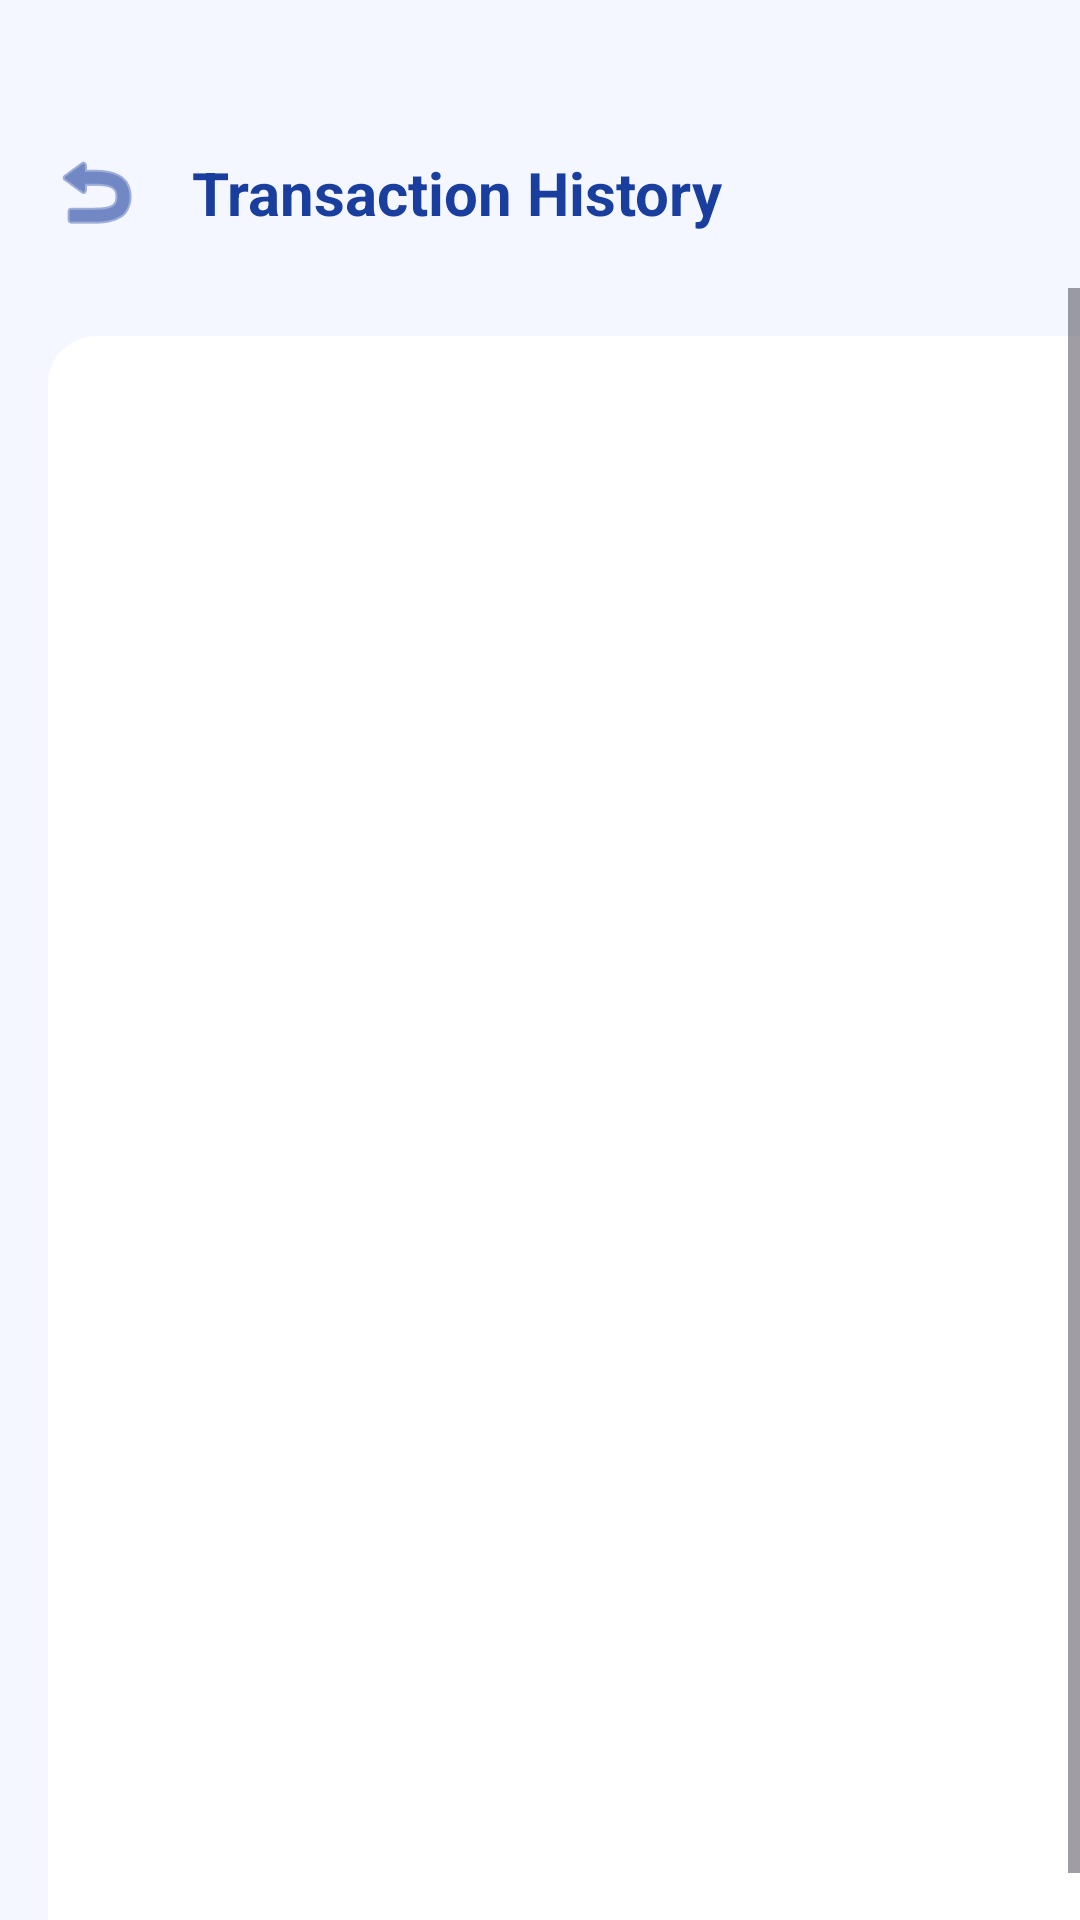

Icons on this 1080px×1920px Android screen, each with the point to tap as point (x, y):
revert: point (97, 192)
